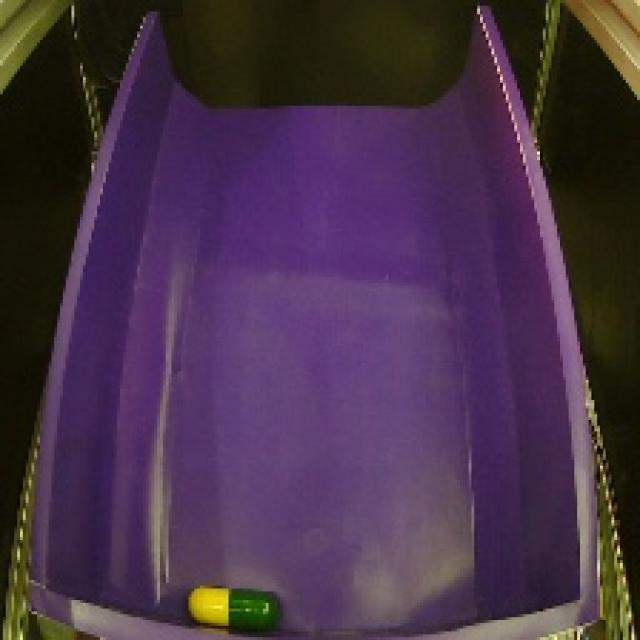small: (176, 577, 287, 639)
